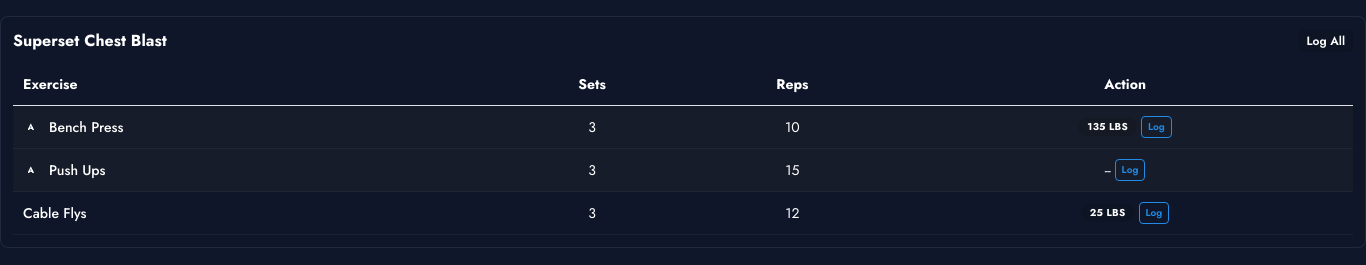
Test: WorkoutTableDisplay › handles logging an exercise
# Click first one
Click the button "Log" next to "135 lbs". click: (1156, 128)
box: [1141, 116, 1172, 138]
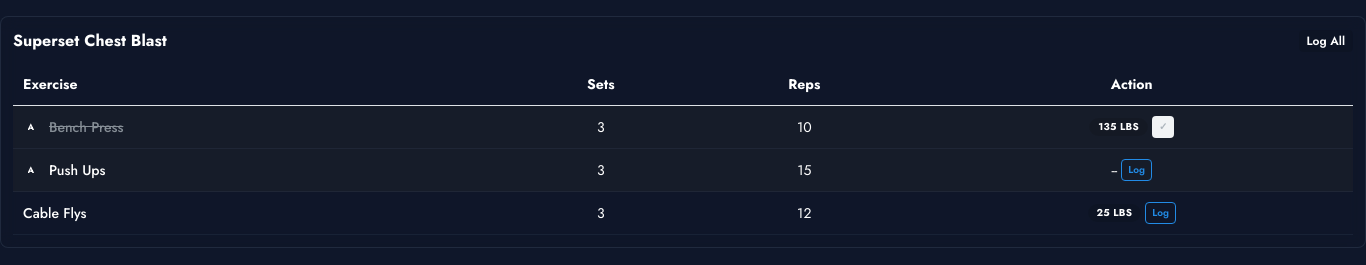
Now the button "✓" is shown, box [1159, 118, 1167, 138]
